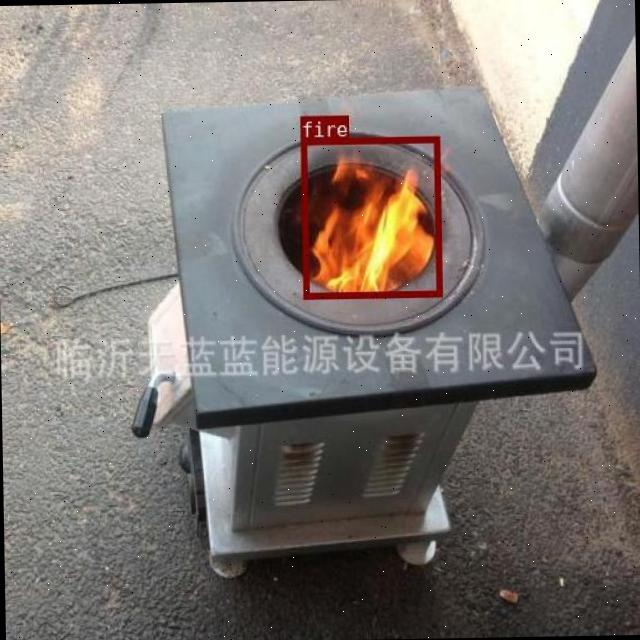fire: (298, 134, 441, 297)
